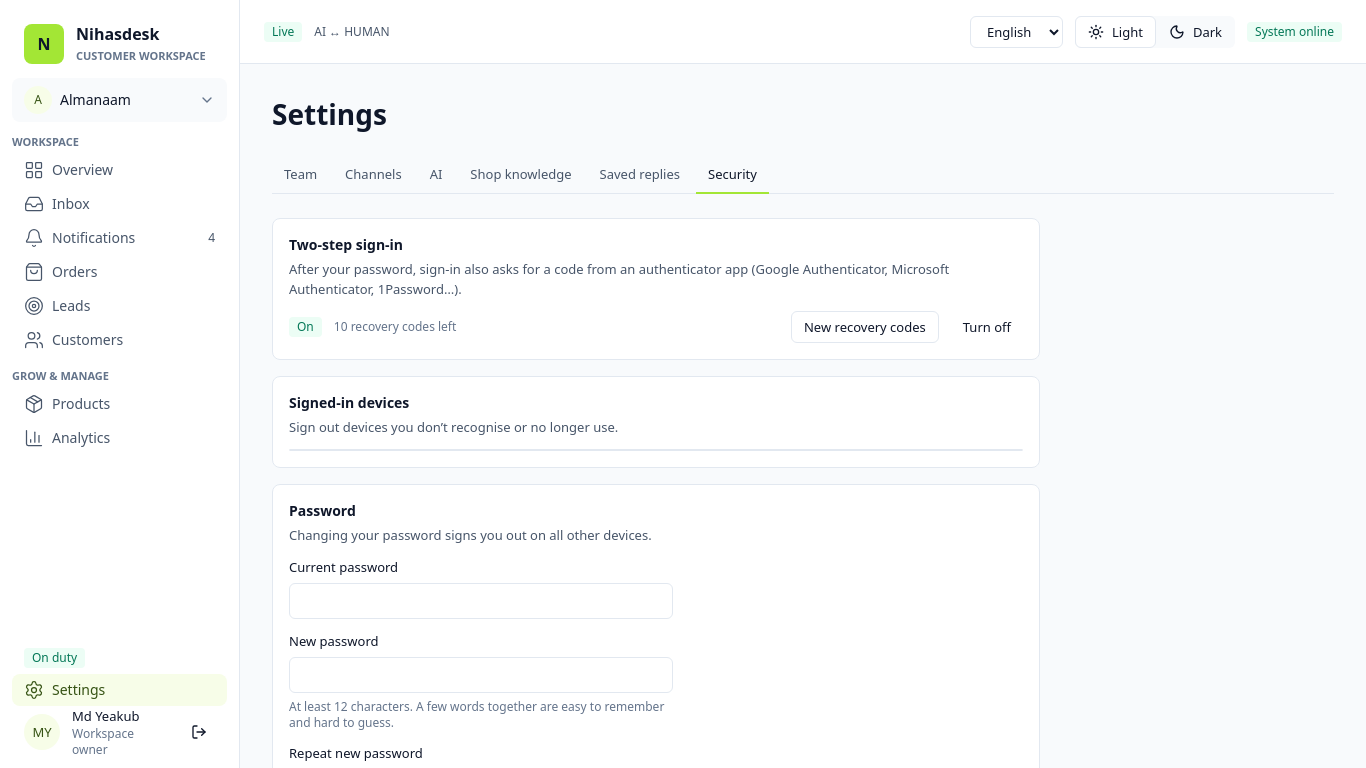
Scenario: Settings → Security › changes the password with the current one
Type "old password long enough" into the password field labelled "Current password" at (481, 601), box [289,583,673,619]
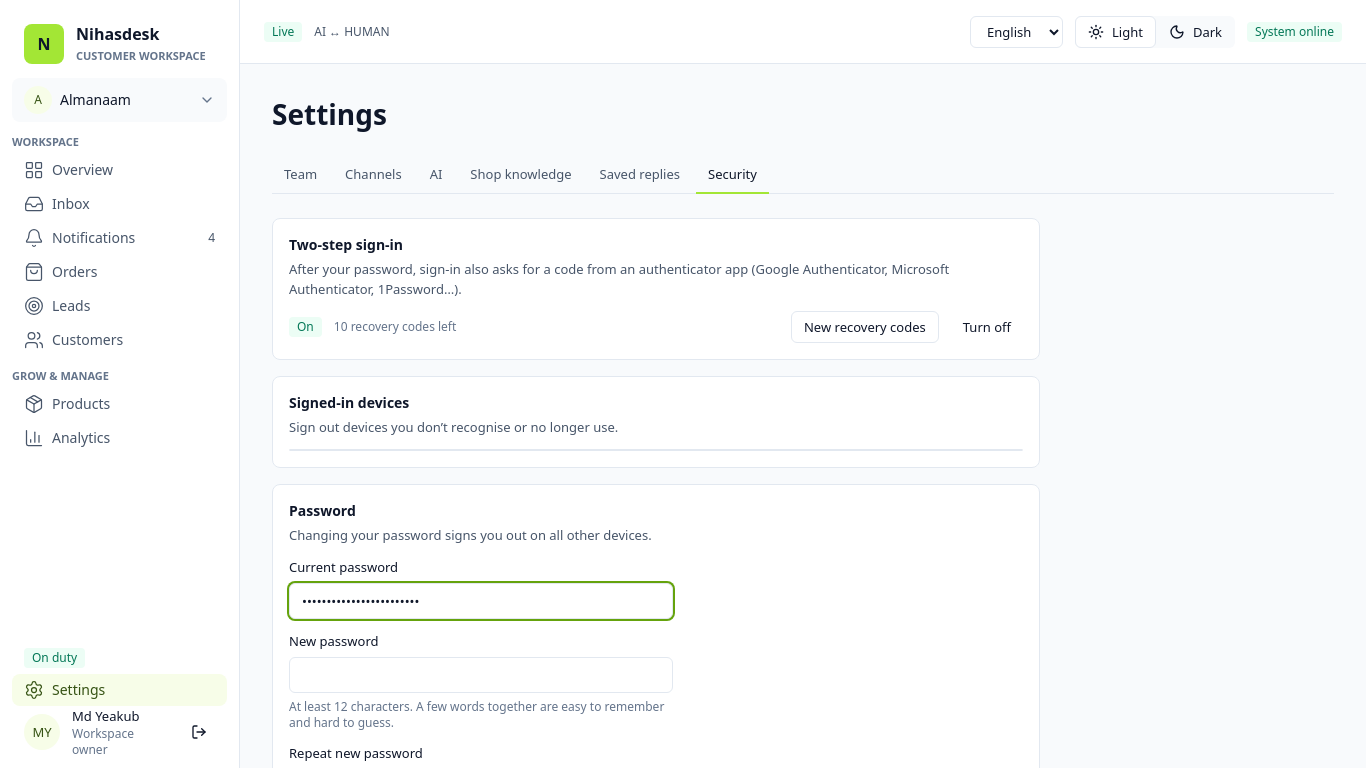
Type "tramonto sul lago verde" into the password field labelled "New password" at (481, 675), box [289,657,673,693]
(page scrolled)
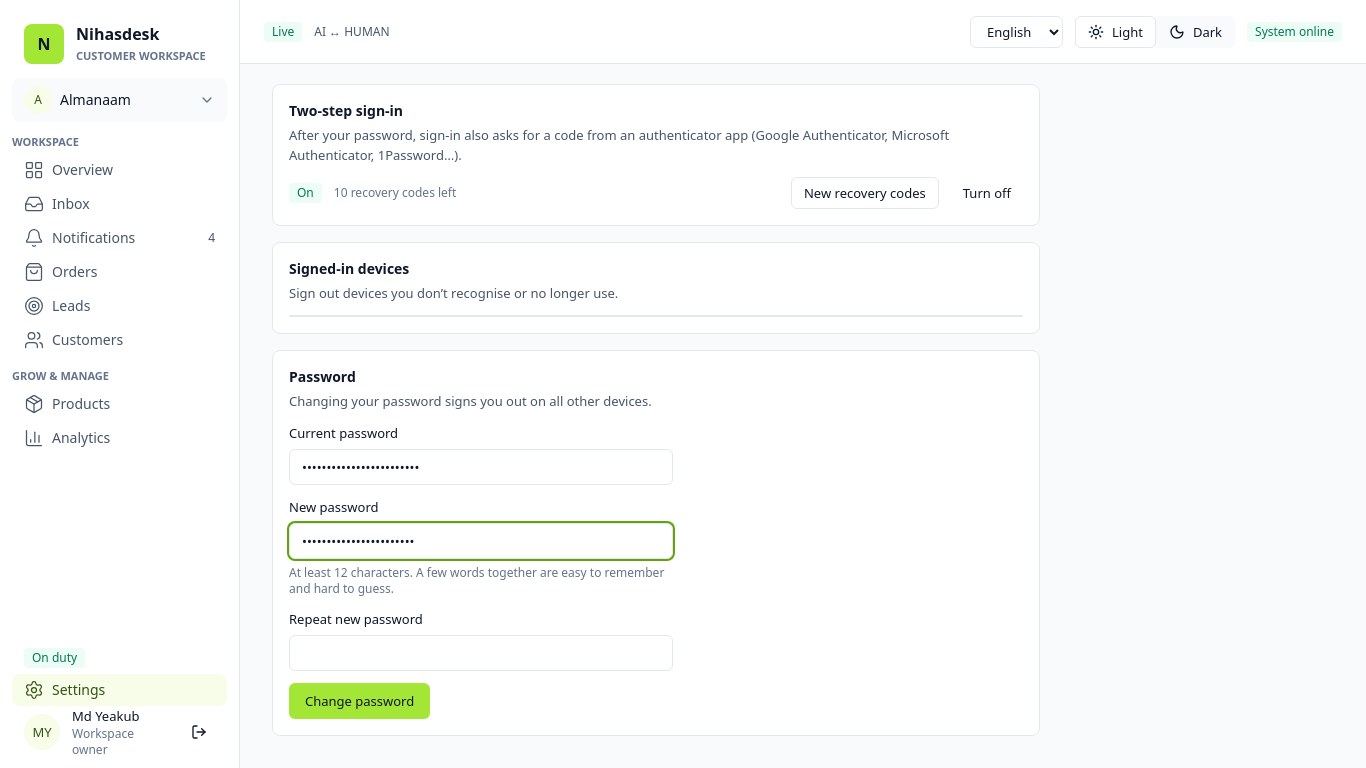
Type "tramonto sul lago verde" into the password field labelled "Repeat new password" at (481, 653), box [289,635,673,671]
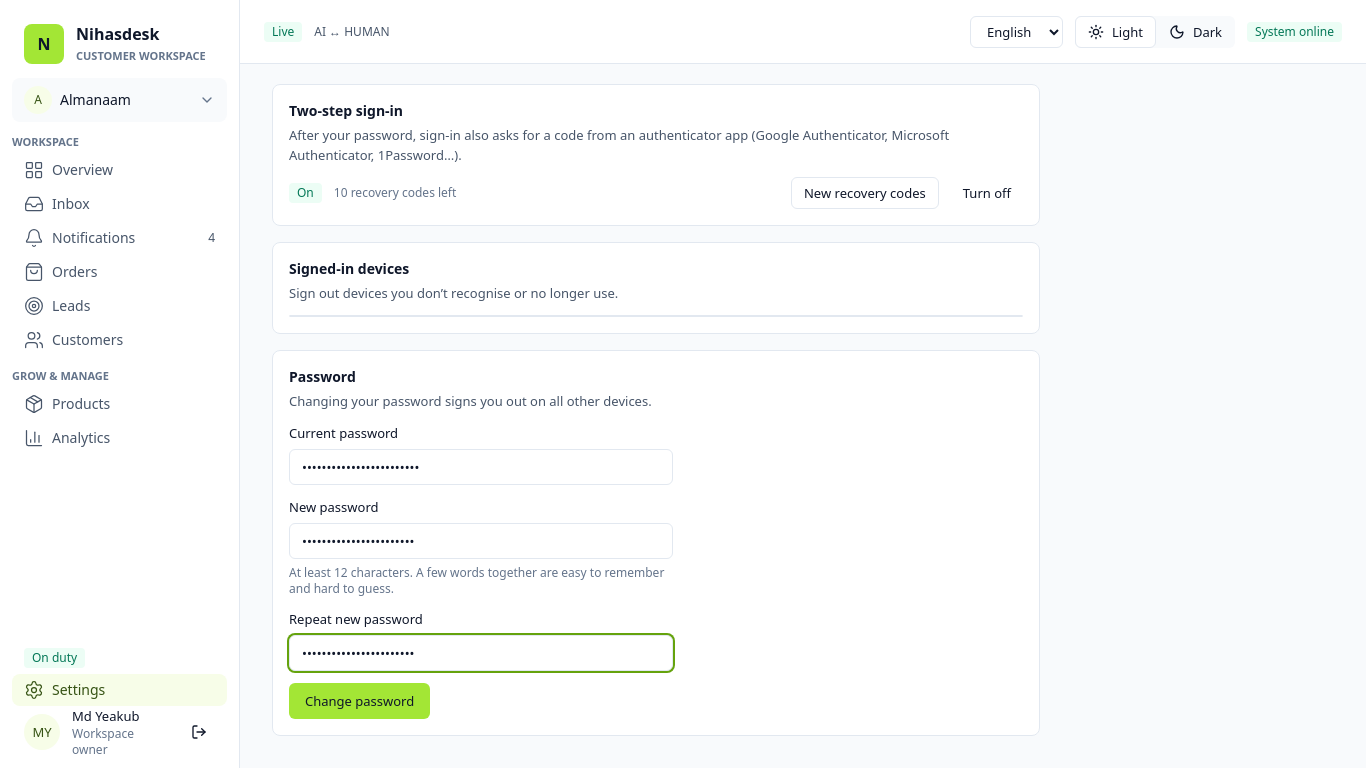
Click the button "Change password" at (360, 701), box [289,683,430,719]
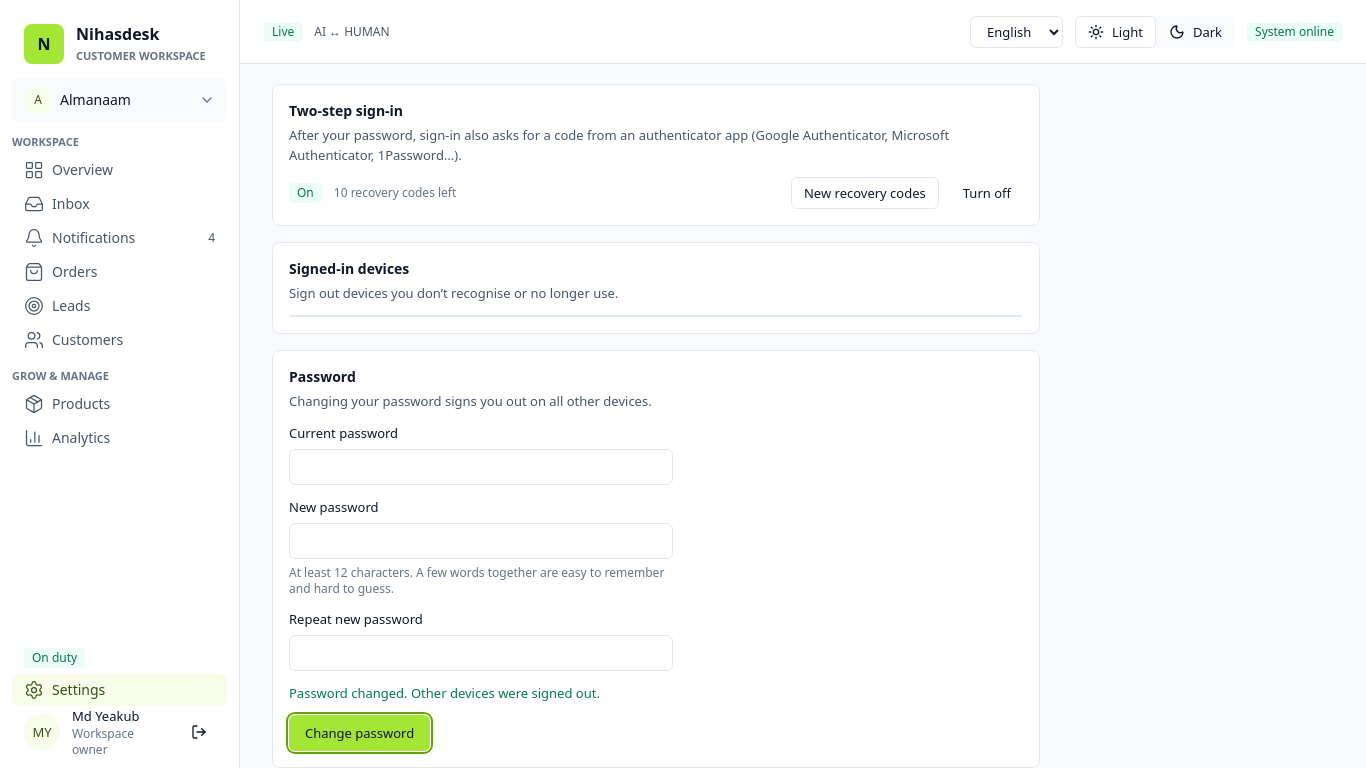
Now the text "Password changed. Other devices were signed out." is shown, box [289,684,600,702]
